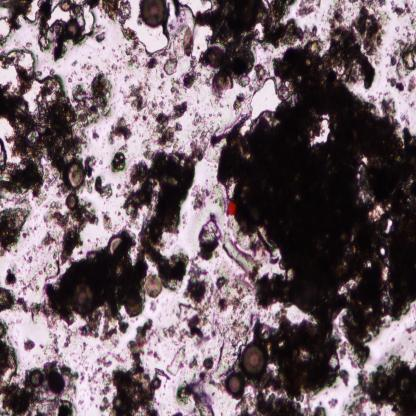Background material: (218, 46, 416, 416), (0, 70, 113, 203), (30, 235, 146, 343), (126, 139, 204, 289), (194, 0, 309, 98), (0, 325, 78, 416), (106, 318, 168, 414), (324, 0, 390, 89), (343, 355, 416, 414), (43, 193, 94, 273), (175, 260, 218, 340), (173, 354, 223, 415), (213, 301, 253, 375), (221, 234, 263, 302), (36, 0, 68, 62), (189, 107, 225, 159), (152, 99, 188, 148), (387, 32, 416, 92), (0, 204, 32, 257), (158, 54, 198, 94), (0, 51, 36, 94), (120, 30, 157, 68), (122, 79, 153, 119), (85, 0, 134, 25), (166, 346, 202, 376), (197, 213, 221, 258), (0, 284, 29, 318), (305, 114, 333, 149), (193, 180, 224, 210), (0, 0, 33, 28), (80, 343, 98, 393), (96, 355, 112, 407), (391, 0, 416, 31), (109, 116, 132, 142), (297, 0, 321, 23), (92, 174, 114, 198), (150, 323, 174, 343), (113, 146, 127, 172), (60, 320, 74, 345), (89, 28, 107, 47), (72, 59, 93, 74), (28, 273, 44, 292), (5, 263, 18, 286), (100, 210, 114, 229), (21, 335, 36, 352), (146, 297, 159, 316), (89, 128, 100, 144), (107, 61, 119, 72)
Diatom: (242, 342, 267, 378), (70, 283, 96, 316), (63, 159, 86, 190), (140, 0, 165, 27), (209, 70, 234, 93), (24, 367, 44, 389), (225, 372, 243, 395), (144, 274, 162, 296), (107, 233, 123, 255), (67, 18, 81, 42), (184, 26, 192, 49)
Fragment: (226, 199, 236, 217)
